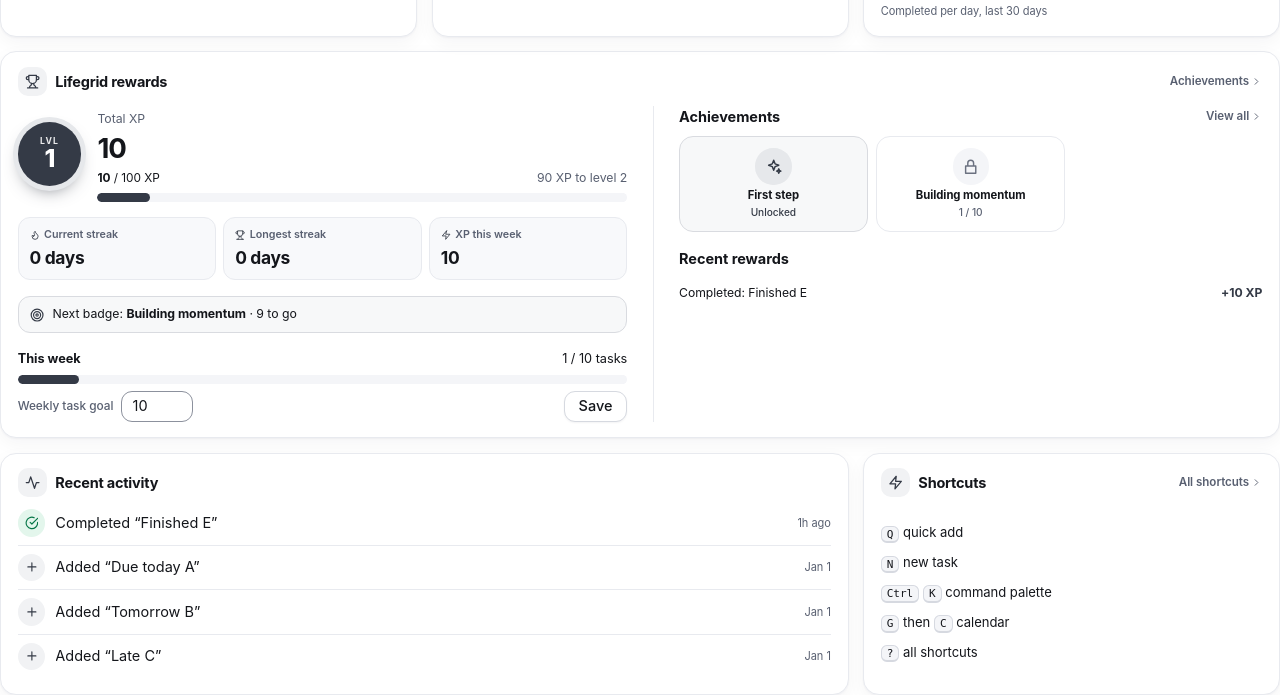
Test: widgets › shows XP, achievements and lets the user persist a weekly goal
(page scrolled)
Expected: the element "Lifegrid rewards" is shown, [0,51,1279,438]
Replace the text in the number field labelled "Weekly task goal" with "12" at (157, 406), box [121,391,193,422]
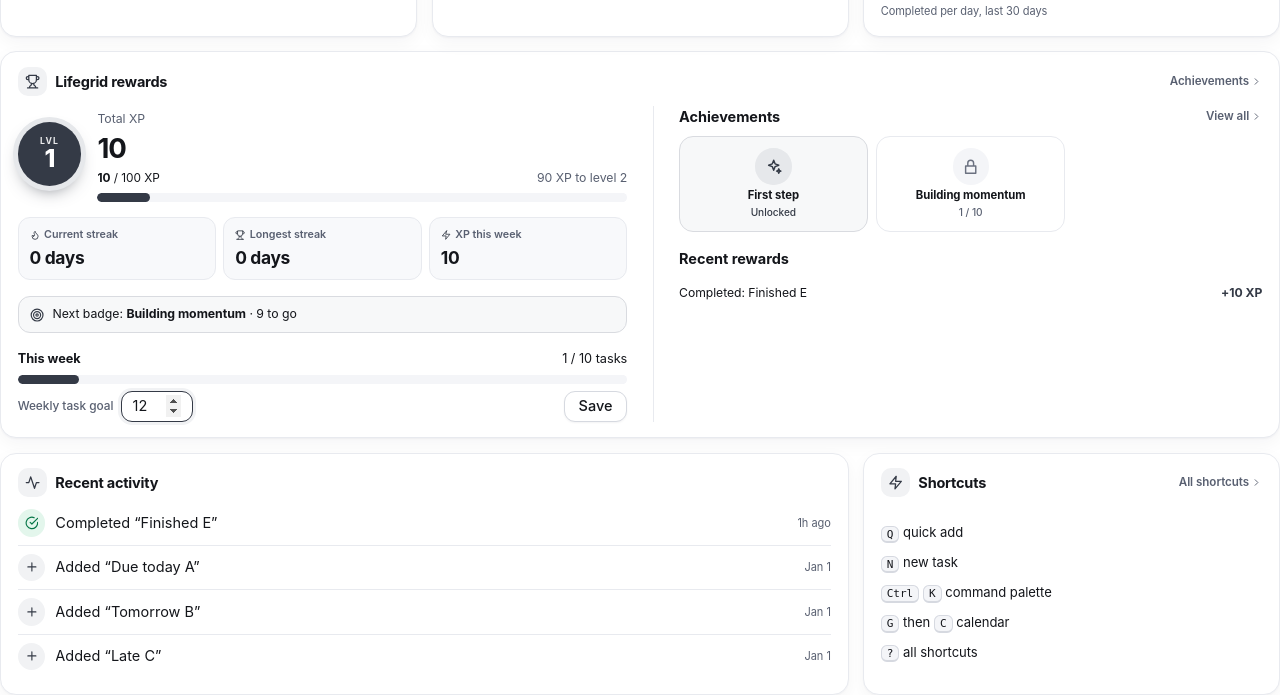
Click the button "Save" at (596, 406), box [564,391,627,422]
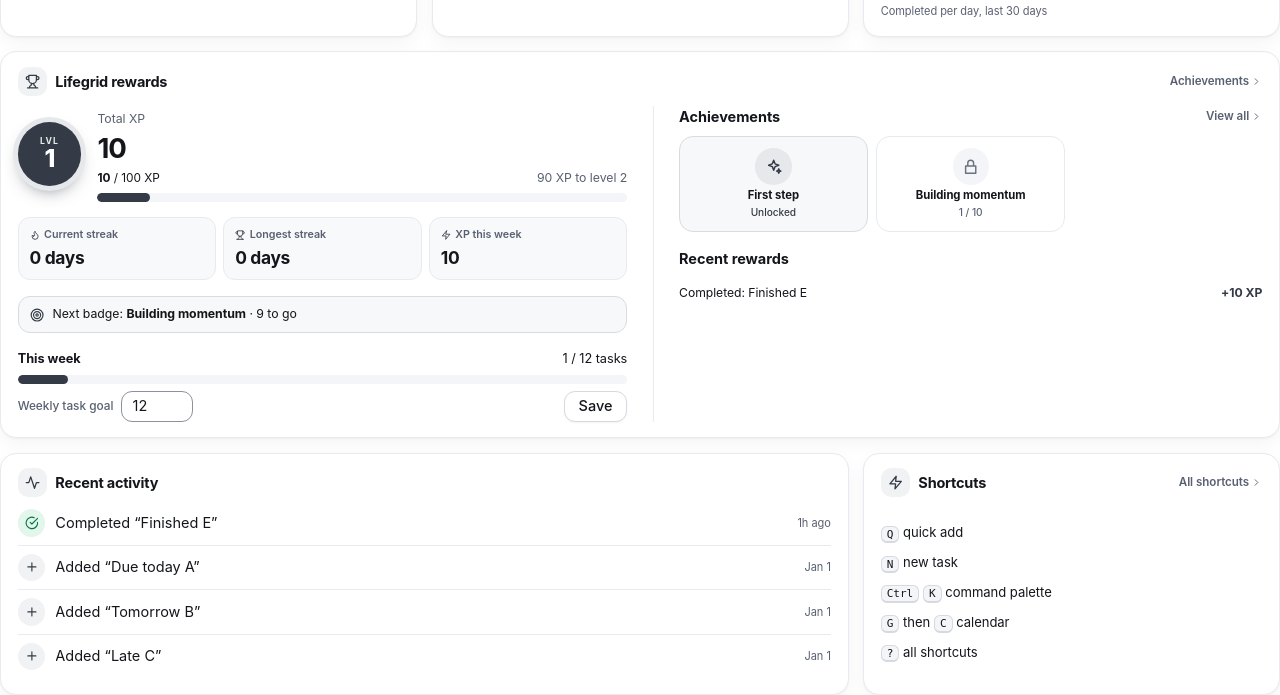
Result: the text "1 / 12 tasks" is shown at [562,349,627,368]
